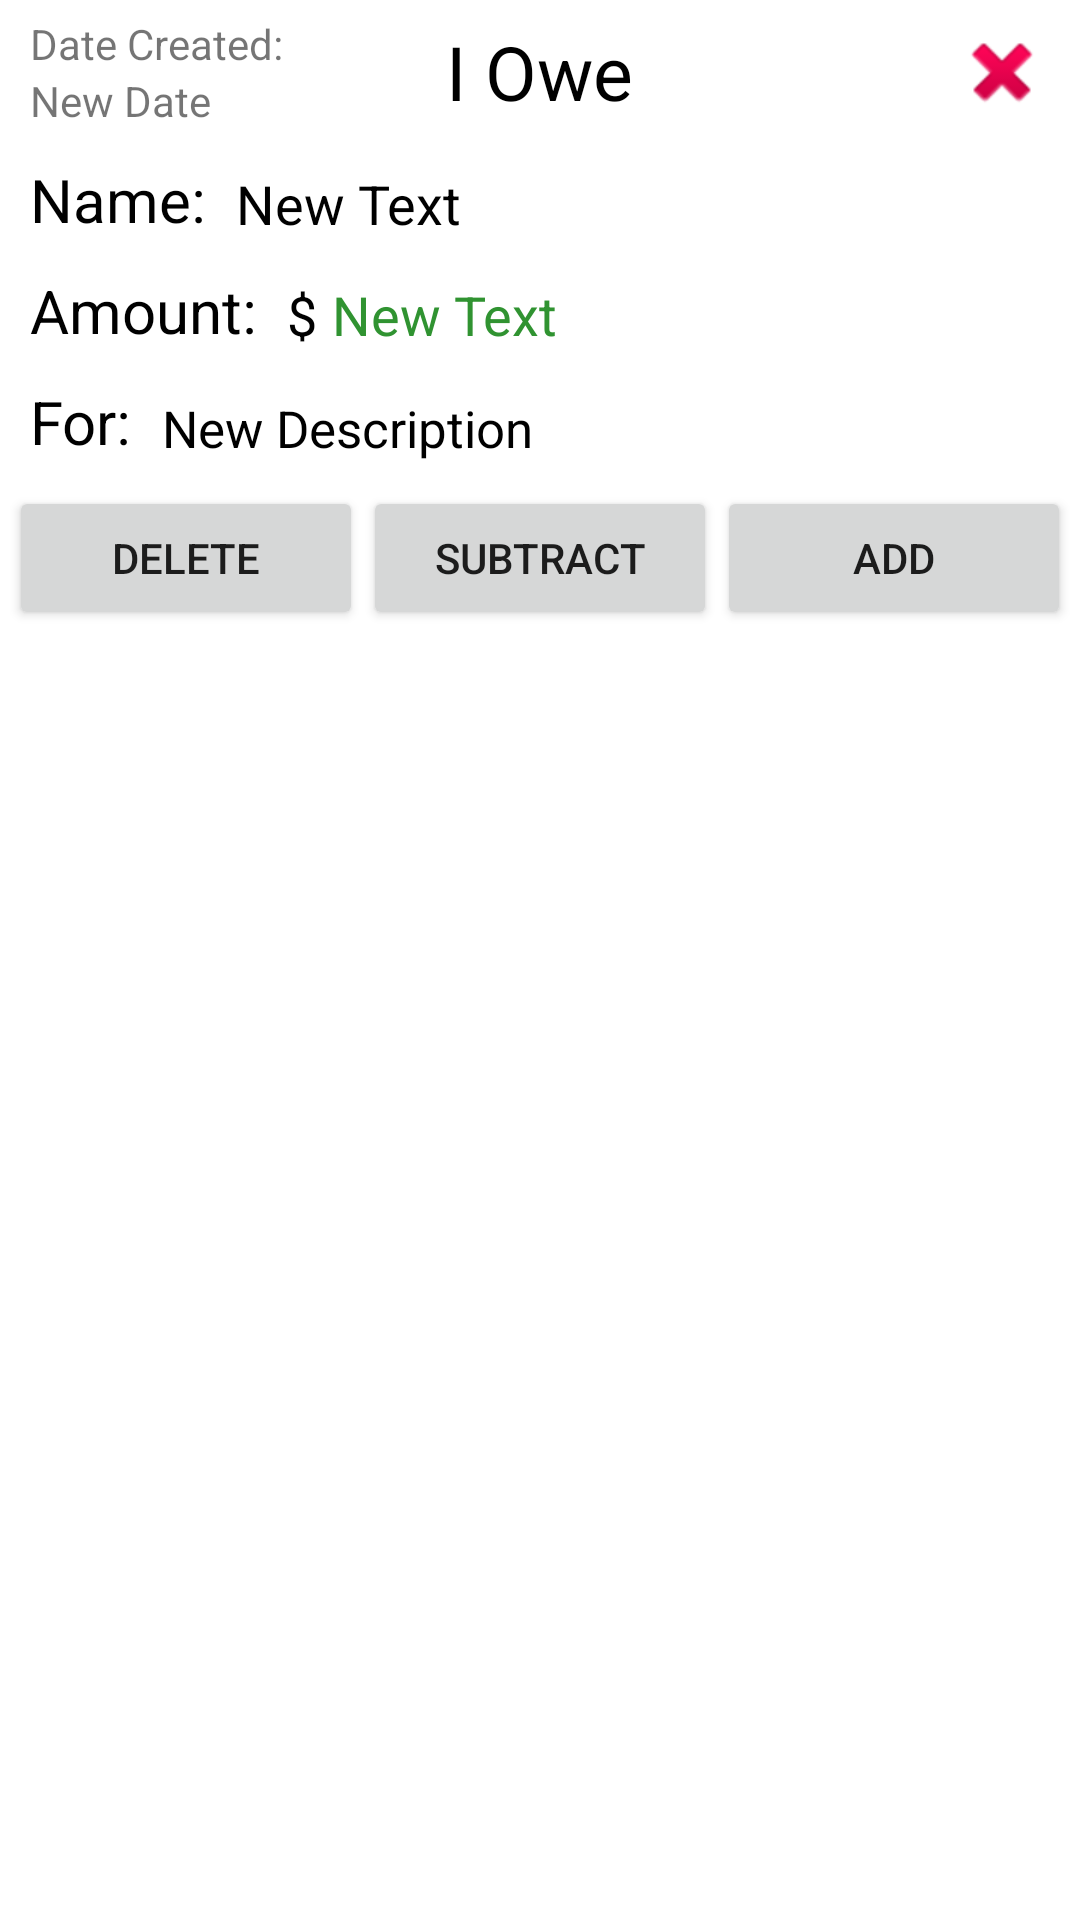

Point at icon controls on the screen. Image size 1080w x 1920h, points as (x=x, y=y).
delete: (x=1002, y=72)
